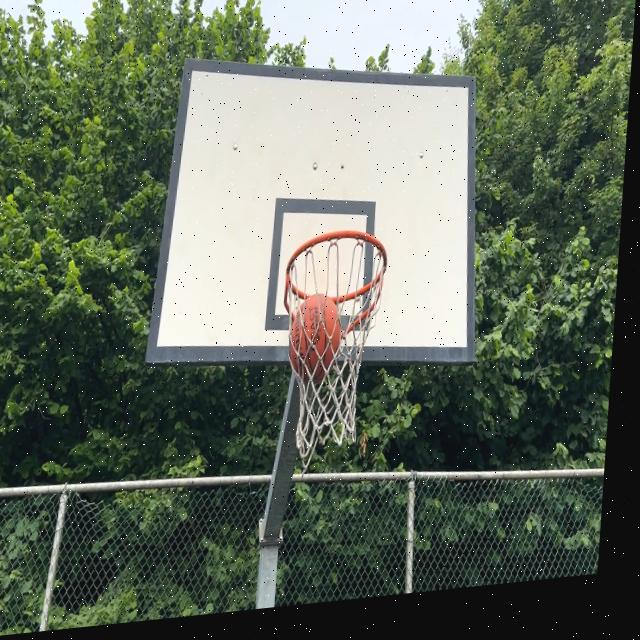Goal: (286, 293, 342, 382)
